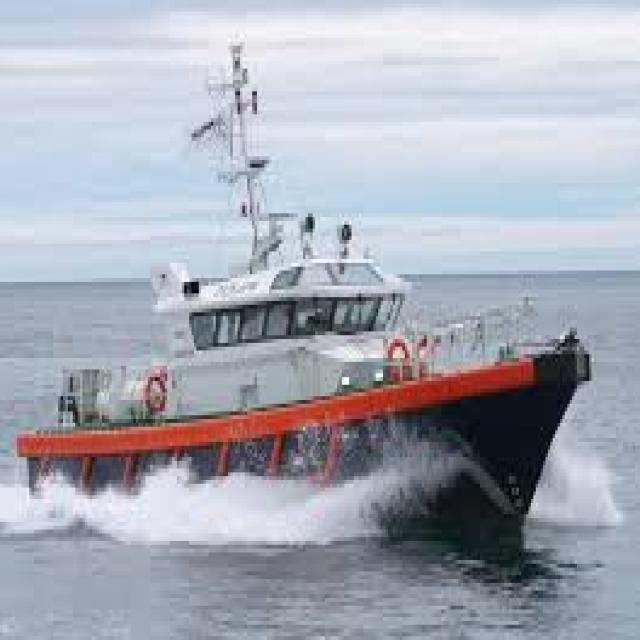houseboat: (32, 46, 595, 549)
